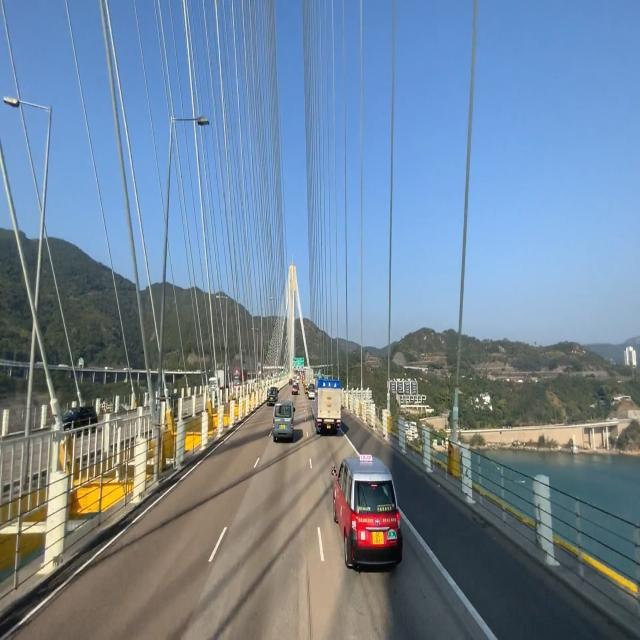Vehicle: (329, 447, 404, 575), (311, 376, 343, 441), (269, 396, 299, 444)
